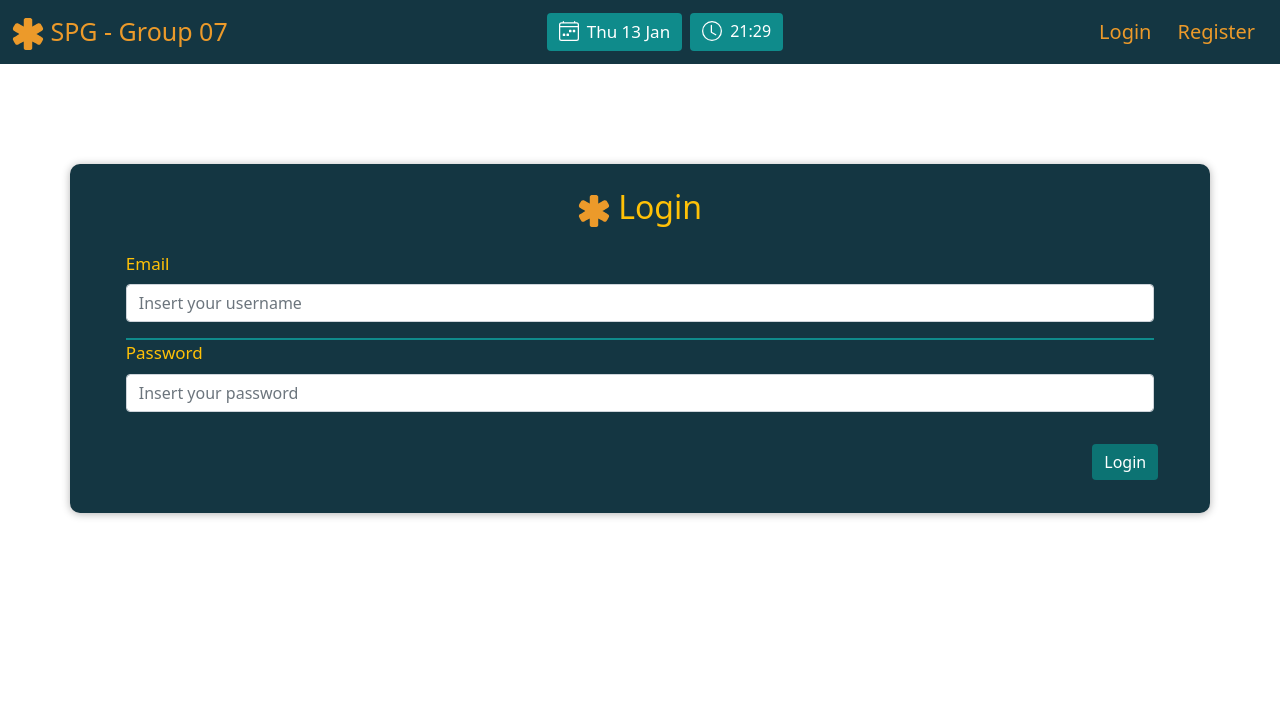
Test: SPG login (shopemployee) › no username given
Click the button with class "loginbutton": point(1125, 462) [1092,444,1158,480]
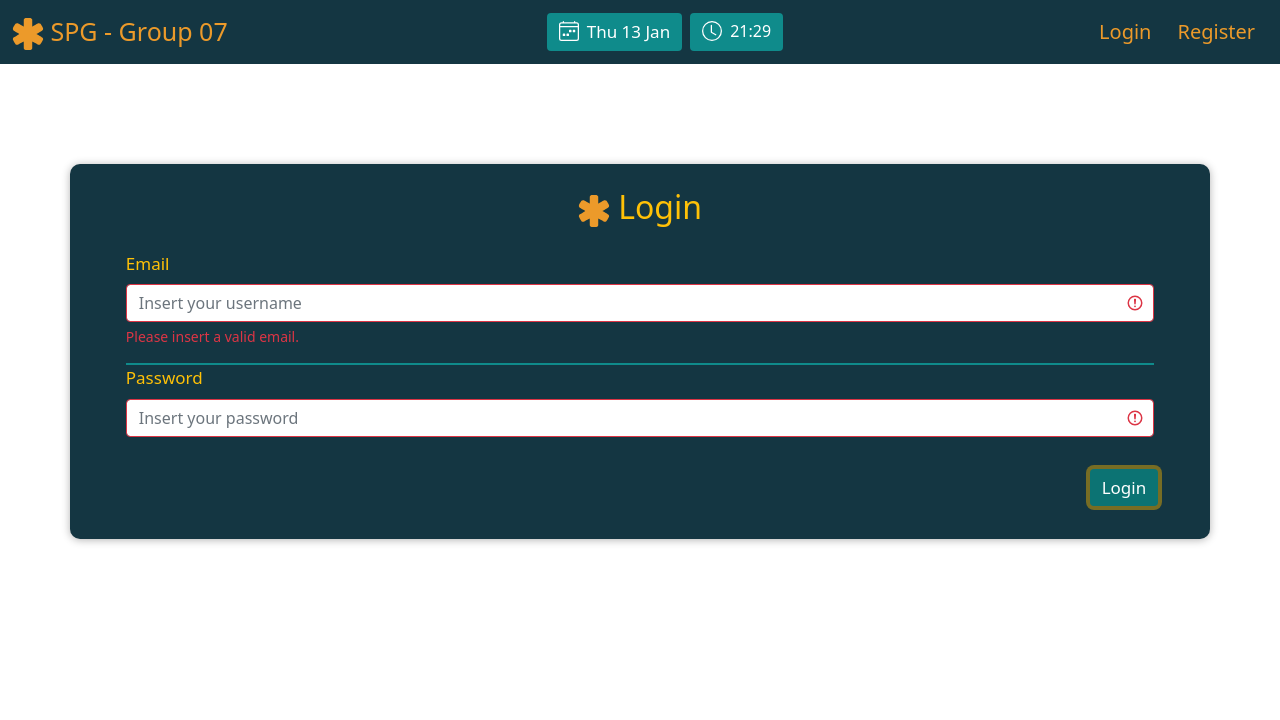
Now the text "Please insert a valid email." is shown, box [126,327,299,346]
